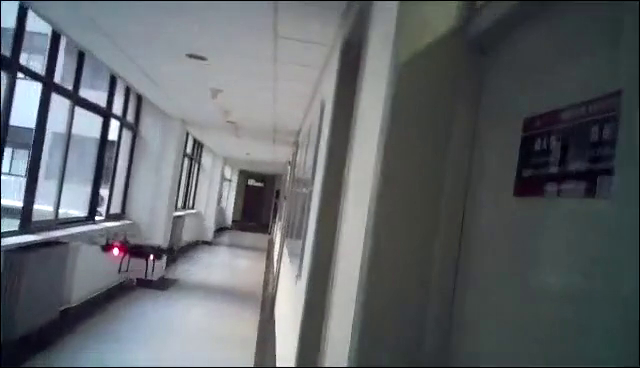drone: (82, 231, 183, 280)
